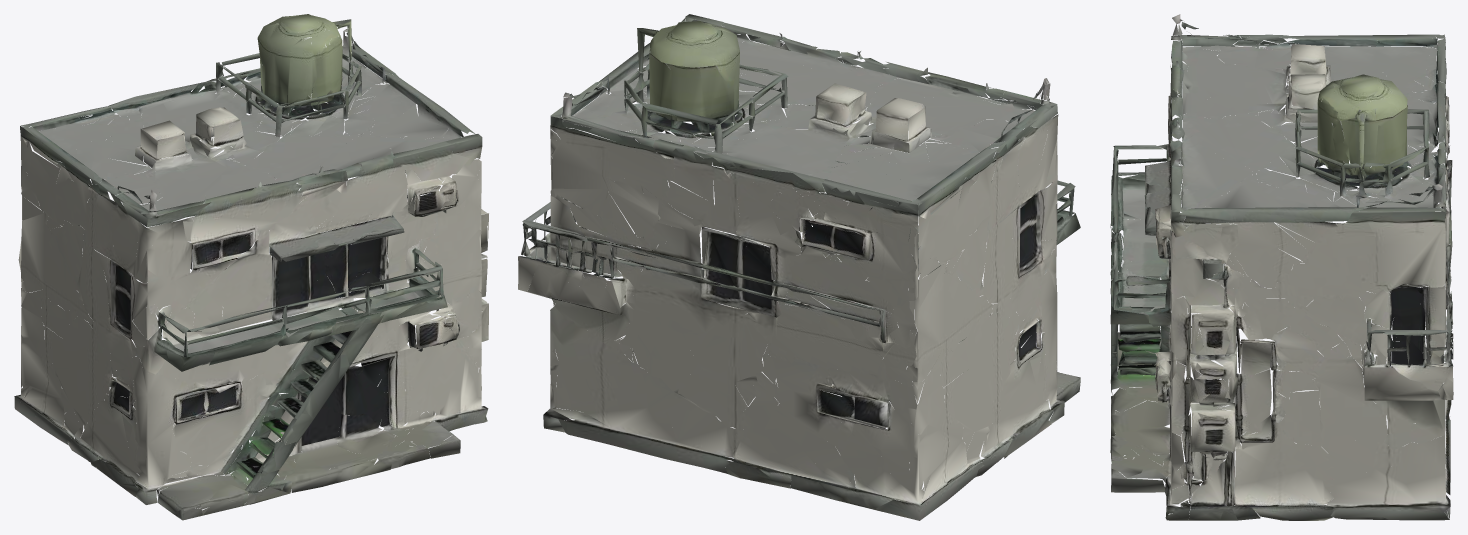
File: building6.glb
The picture shows the model from 3 angles, left to right: view 1: azimuth 30°, elevation 25°; view 2: azimuth 150°, elevation 25°; view 3: azimuth 270°, elevation 25°; orthographic projection. The views are drawn at different scales.
Parts seen in each view (by area): view 1: tripo_node_8c6ff321-60a6-4cf5-ac5c-8bf0d037c865; view 2: tripo_node_8c6ff321-60a6-4cf5-ac5c-8bf0d037c865; view 3: tripo_node_8c6ff321-60a6-4cf5-ac5c-8bf0d037c865.
Part boxes in pixels (x1,y1,x2,y2): tripo_node_8c6ff321-60a6-4cf5-ac5c-8bf0d037c865: (14,14,488,520); tripo_node_8c6ff321-60a6-4cf5-ac5c-8bf0d037c865: (518,14,1080,520); tripo_node_8c6ff321-60a6-4cf5-ac5c-8bf0d037c865: (1110,14,1453,520).
Size of the model in its own units: 0.9999 by 0.9403 by 0.7567.
Materials: 1 (1 with a texture image).
